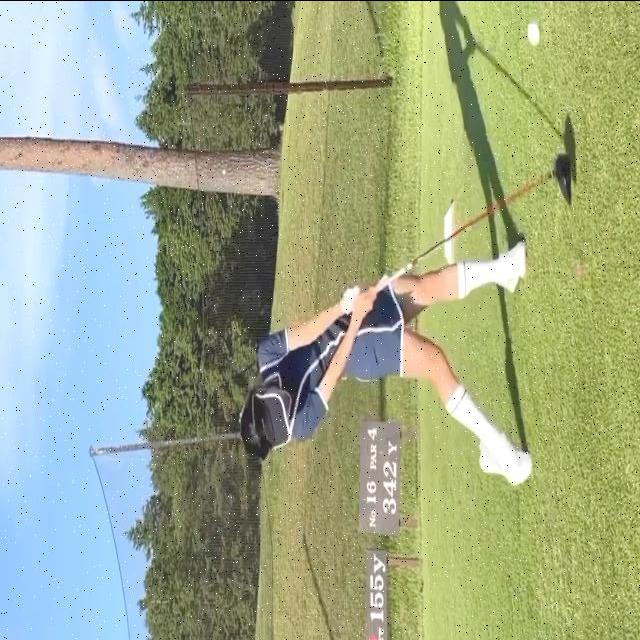golf ball: (526, 20, 540, 45)
golf club-handle: (352, 146, 576, 304)
golf club-head: (555, 151, 573, 204)
